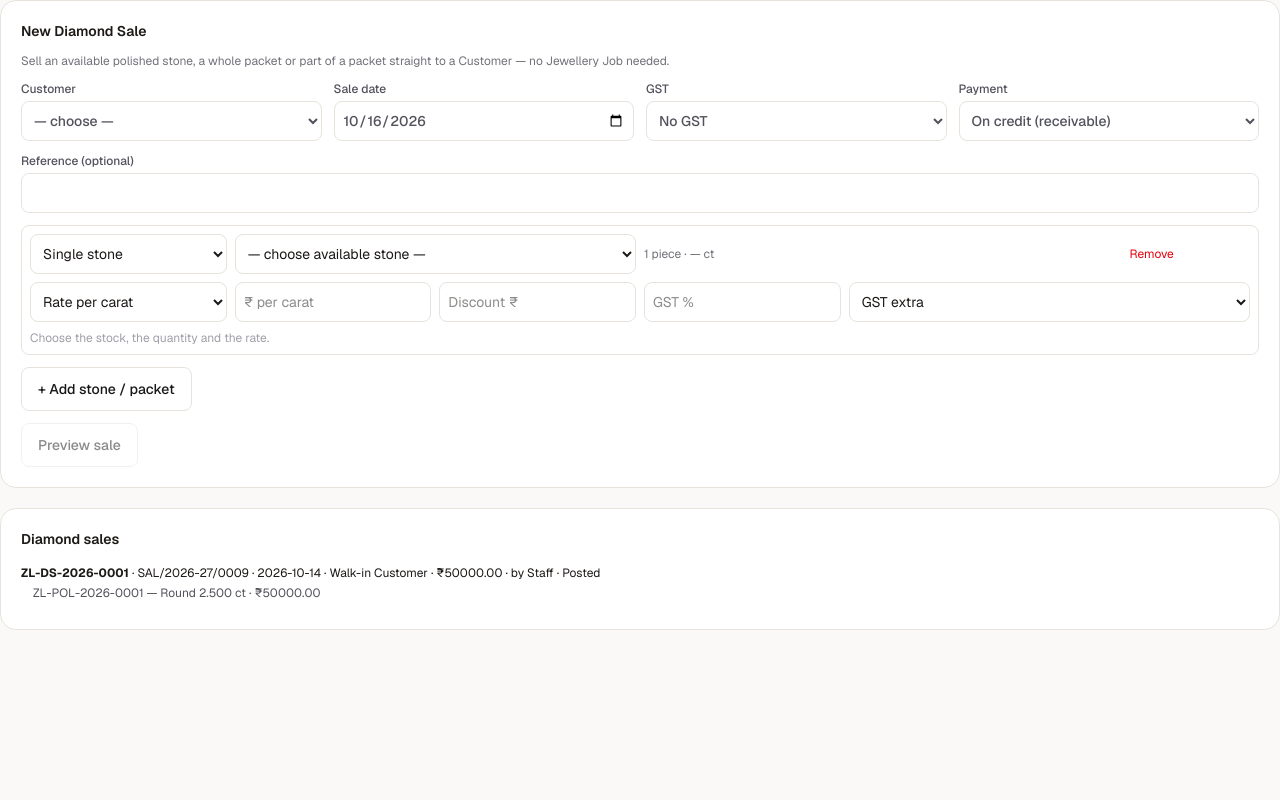
Scenario: Diamond Sales tab › a packet line asks for pieces and carat and prices per piece
This screenshot has width=1280, height=800.
Select "Packet" in the dropdown named "Stone or packet" at (128, 254), box [30,234,227,274]
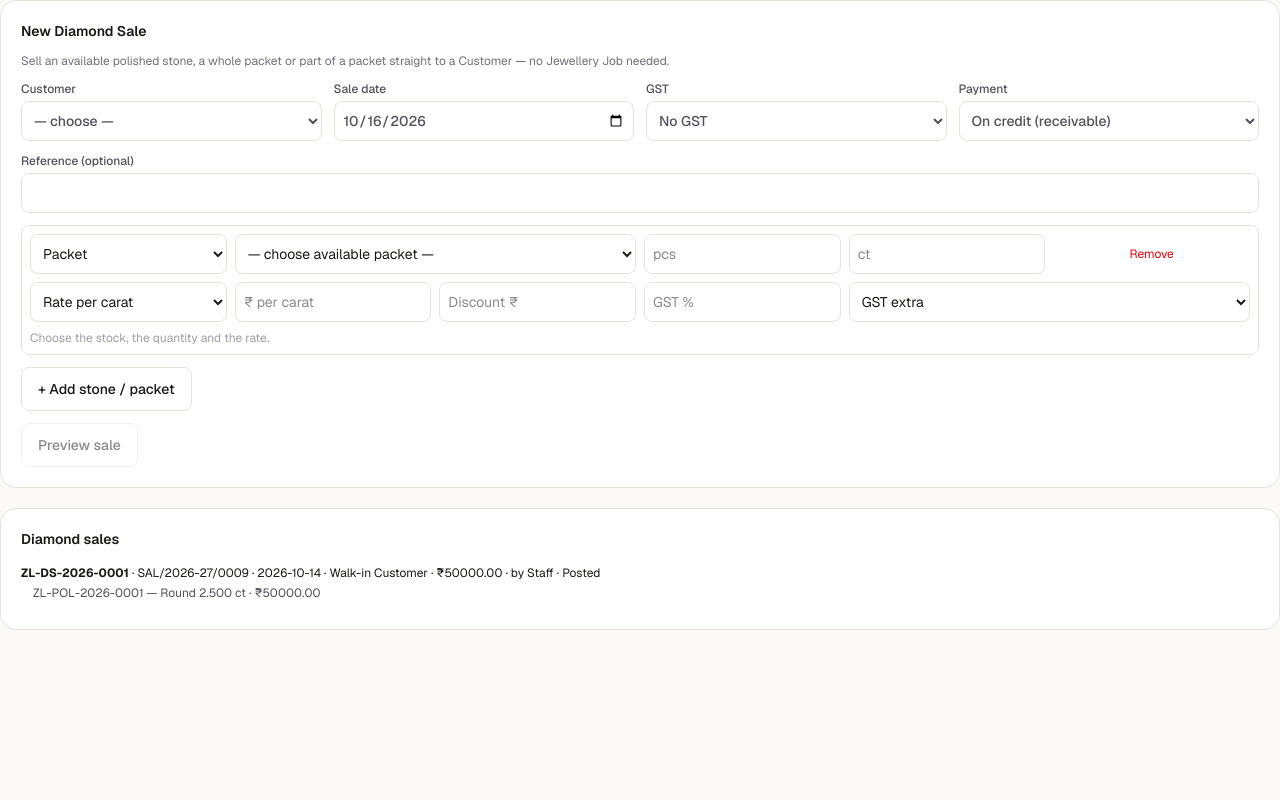
Select "ZL-PKT-2026-0001 · Round 1.5 mm · 10 pcs / 5.000 ct" in the dropdown with test id "ds-source" at (435, 254), box [235,234,636,274]
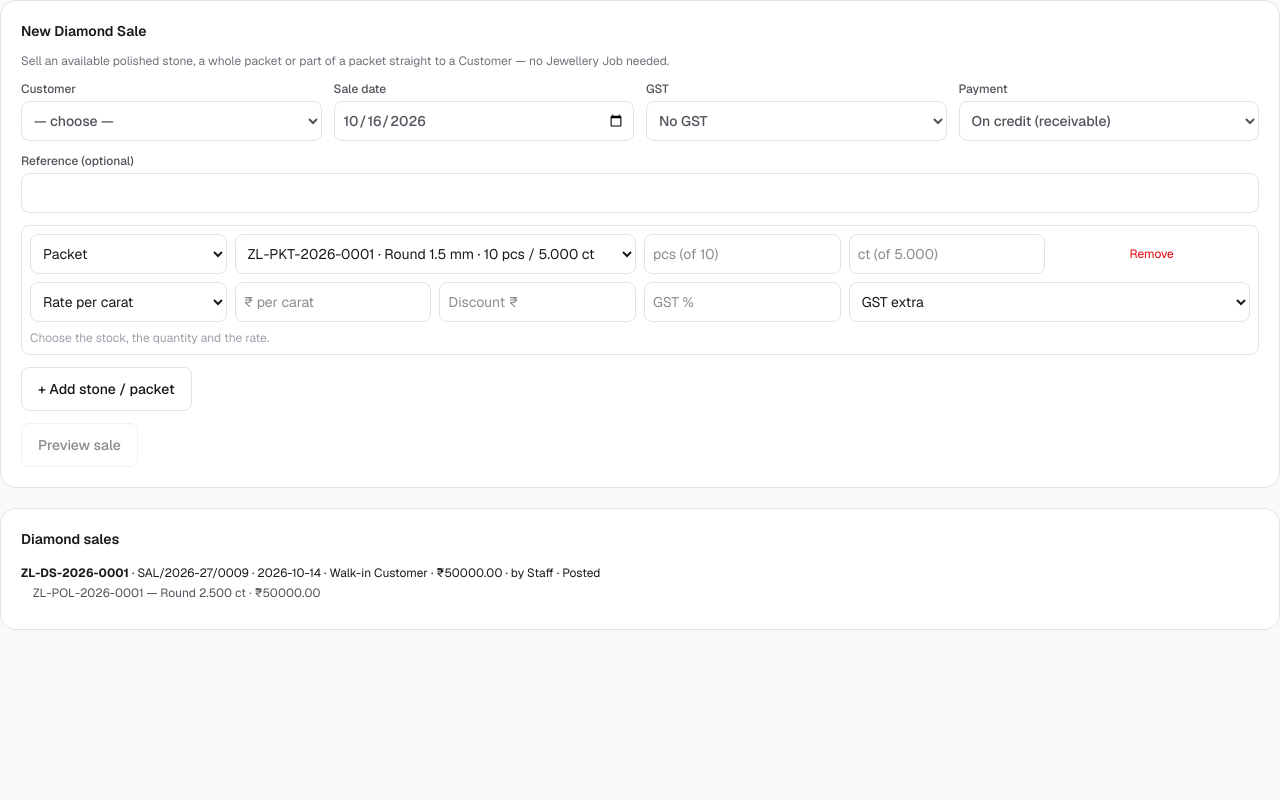
Type "4" into the field named "Pieces sold" at (742, 254), box [644,234,841,274]
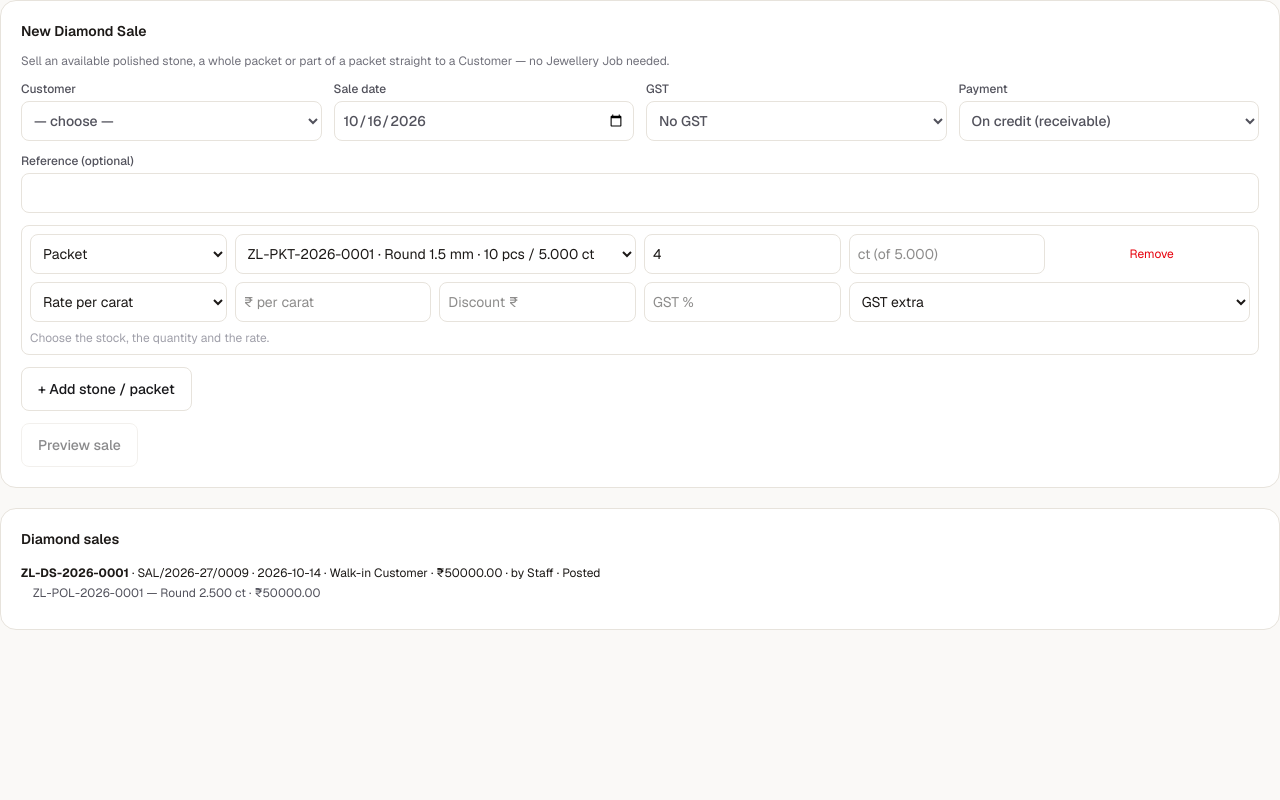
Type "2.000" into the field named "Carat sold" at (947, 254), box [849,234,1045,274]
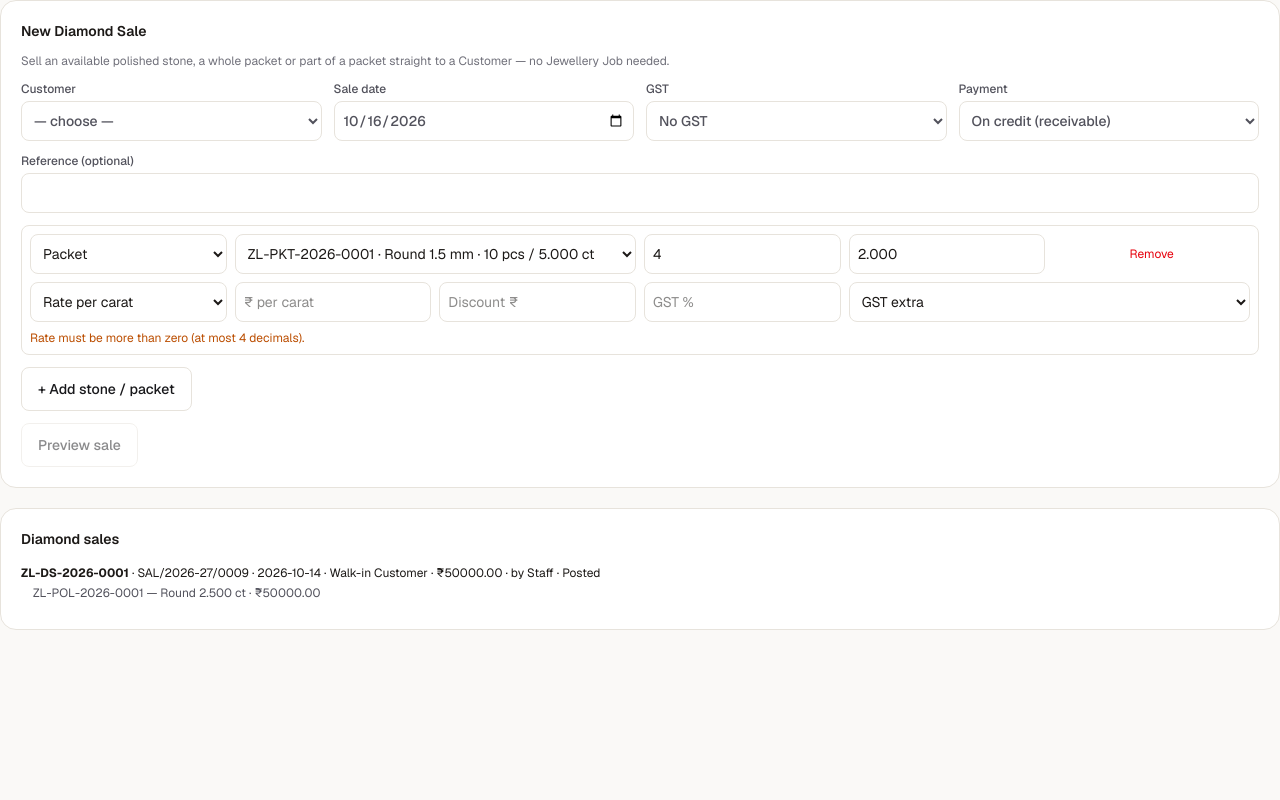
Select "Rate per piece" in the dropdown with test id "ds-pricing" at (128, 302), box [30,282,227,322]
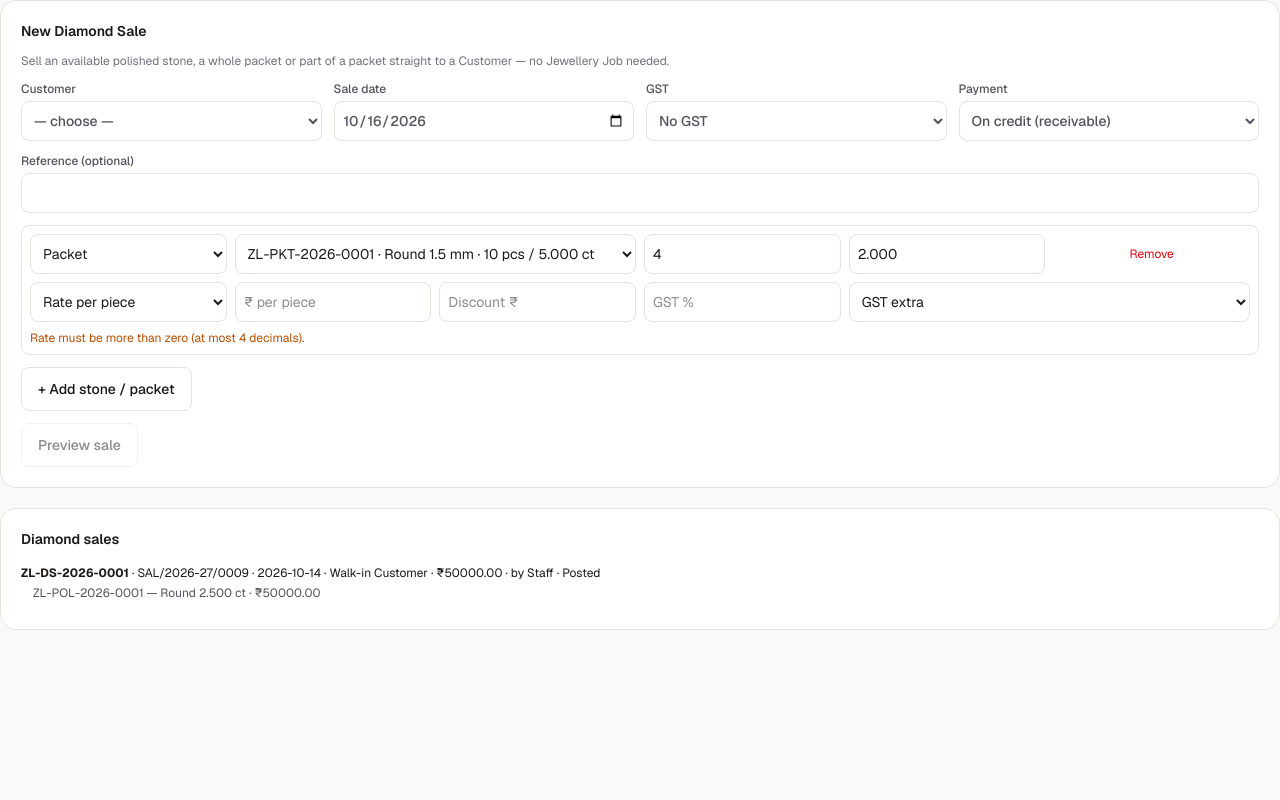
Type "5000" into the field with test id "ds-rate" at (333, 302), box [235,282,431,322]
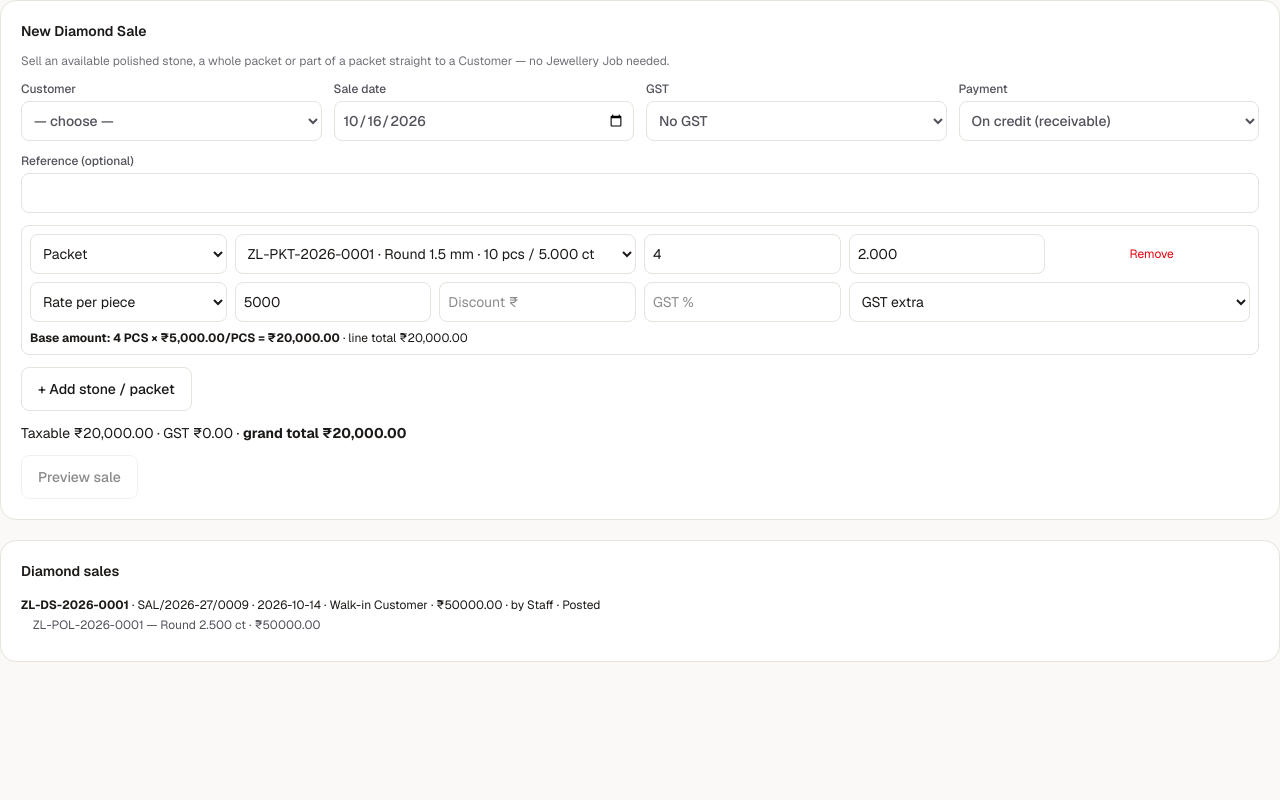
Now the element with test id "ds-line-amount" shows "₹20,000.00", box [399,330,468,346]
